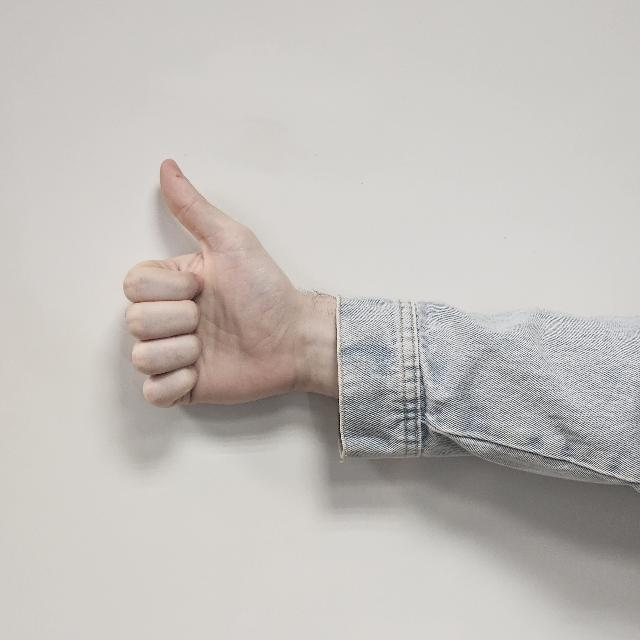Start: (124, 158, 306, 452)
